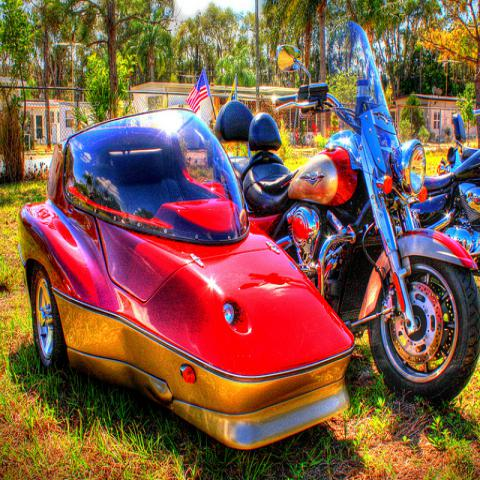car: (19, 105, 356, 452)
motorcycle: (214, 22, 479, 407), (415, 147, 479, 278)
